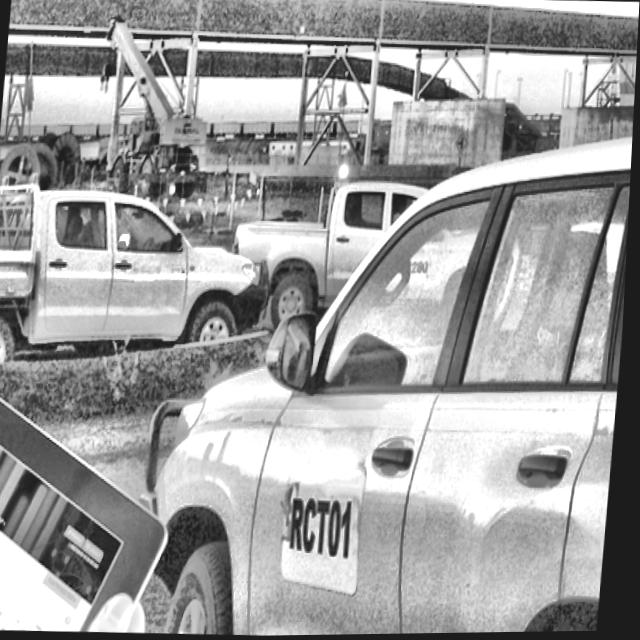light_vehicle: (114, 81, 636, 638), (0, 174, 298, 388)
